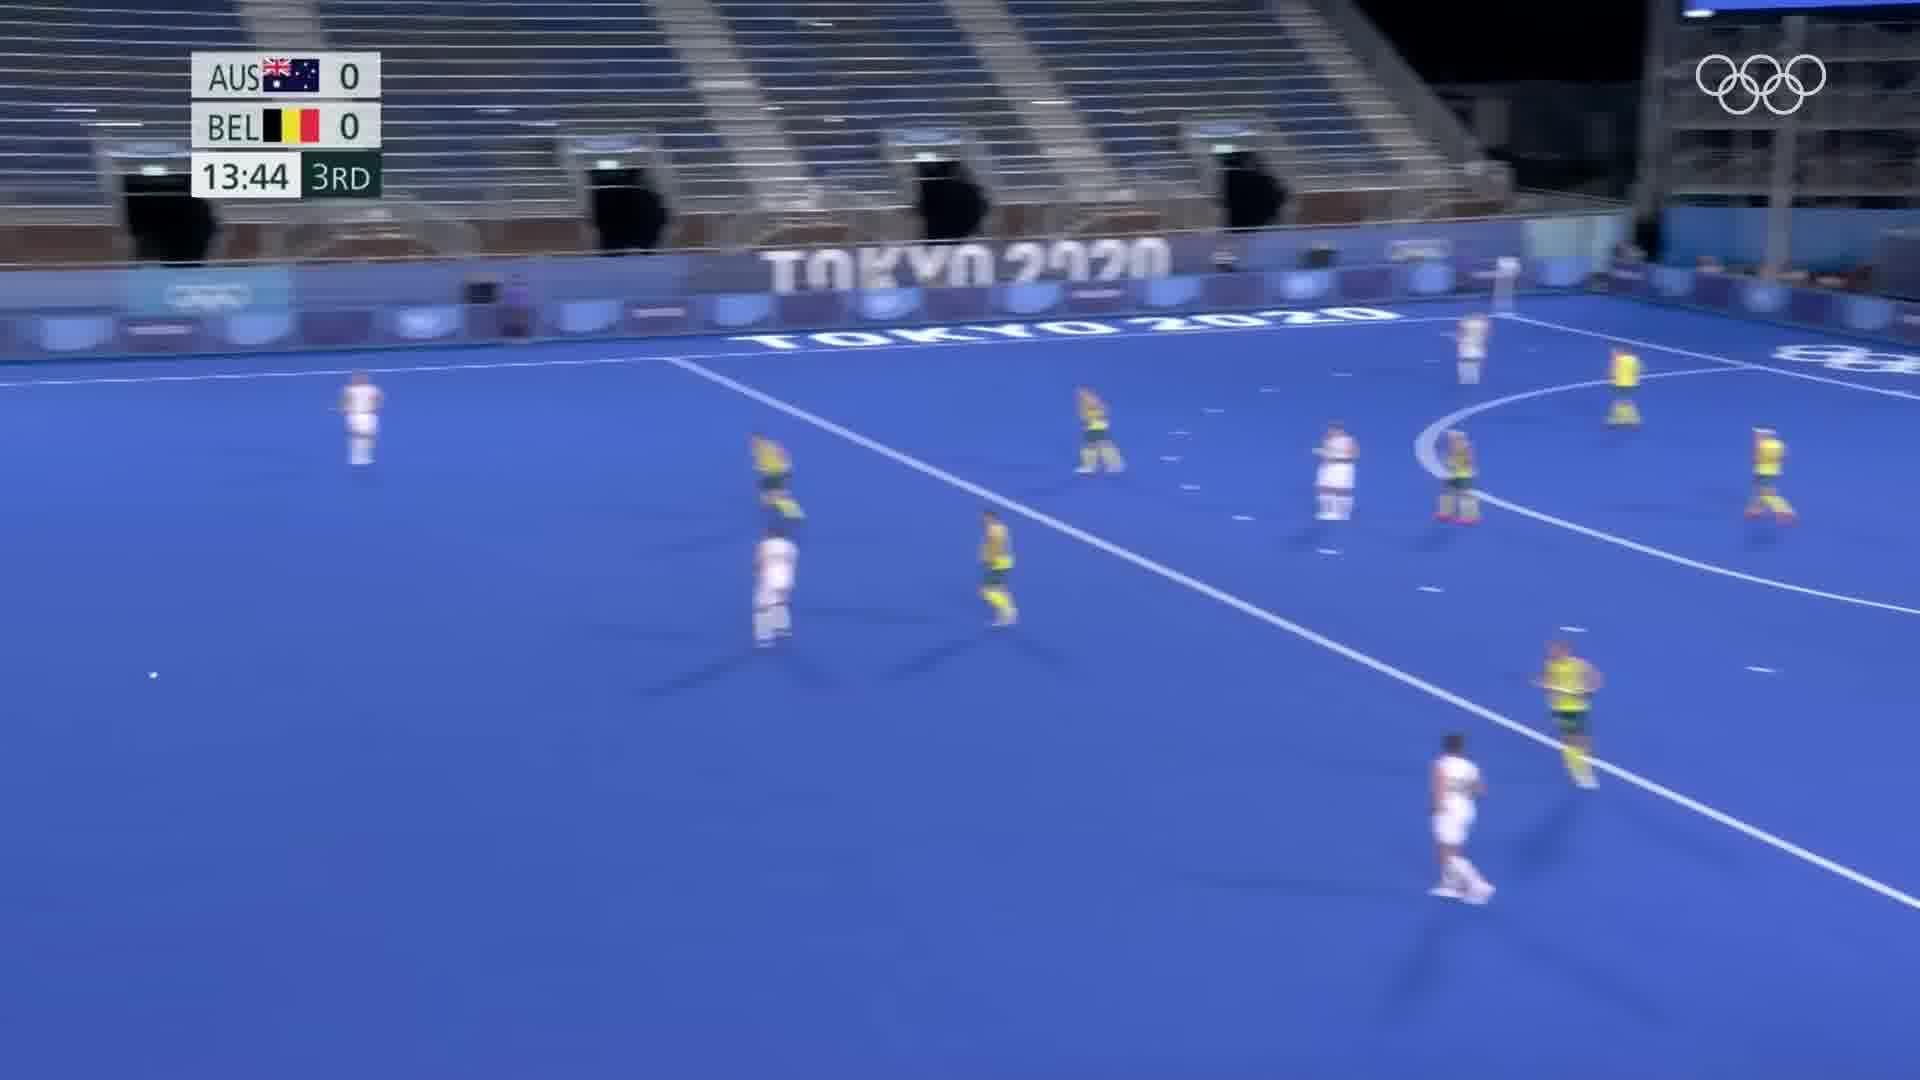ball: (138, 663, 170, 694)
